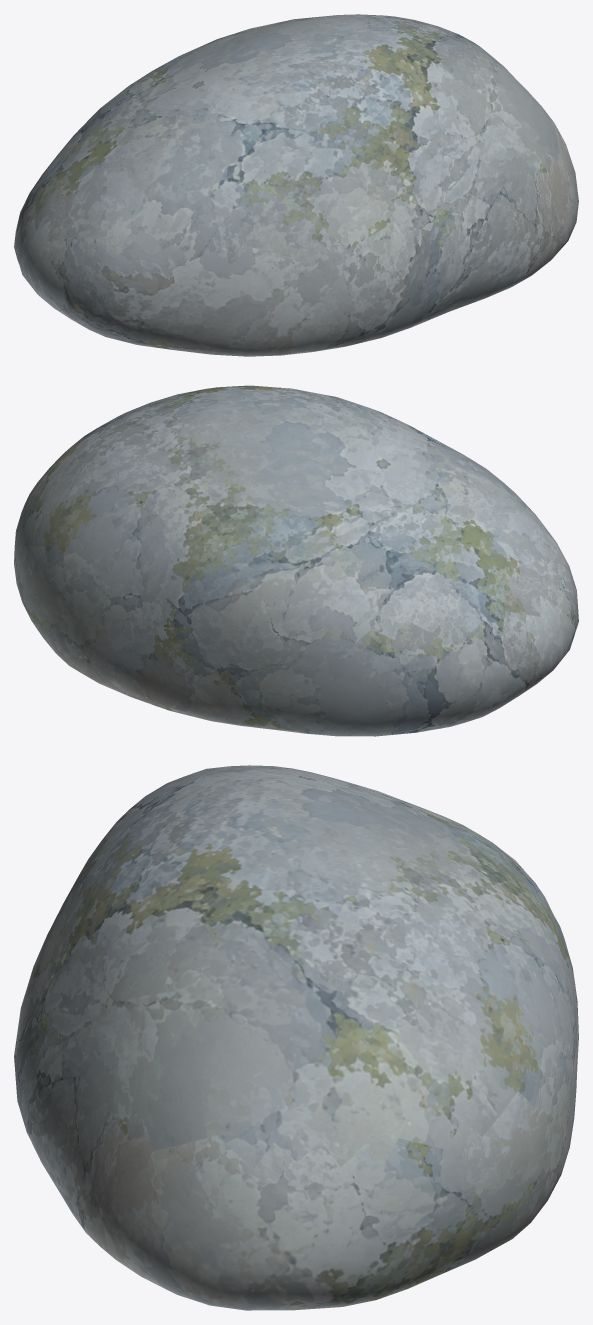
The model's file is SM_SmoothForestRock_05.fbx.
3 renders of one model, top to bottom at view 1: azimuth 30°, elevation 25°; view 2: azimuth 150°, elevation 25°; view 3: azimuth 270°, elevation 25°, orthographic. The views are drawn at different scales.
Visible parts, largest first — view 1: SM_SmoothForestRock_05; view 2: SM_SmoothForestRock_05; view 3: SM_SmoothForestRock_05.
Boxes of the visible parts, left/top/right/bottom form: SM_SmoothForestRock_05: left=14, top=14, right=578, bottom=356; SM_SmoothForestRock_05: left=14, top=385, right=578, bottom=736; SM_SmoothForestRock_05: left=14, top=765, right=578, bottom=1310.
Bounding box in the file's own units: 3.46 × 2.26 × 1.53.
